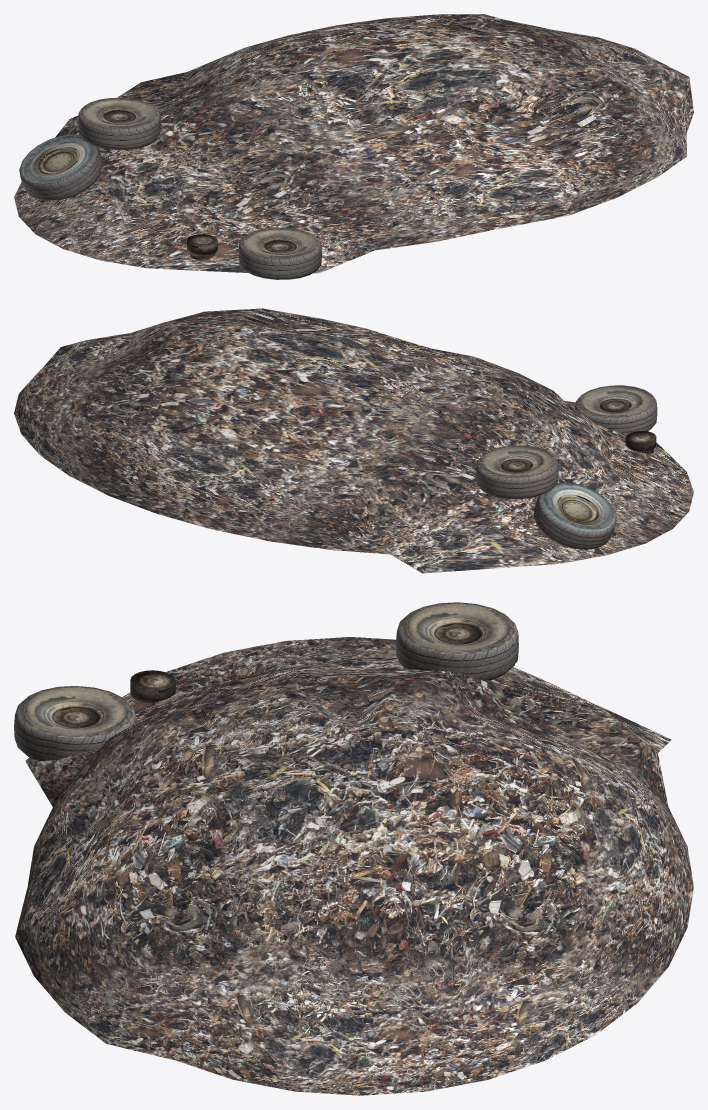
File: rubble.fbx
3 views of the same model, one above another, from view 1: azimuth 30°, elevation 25°; view 2: azimuth 150°, elevation 25°; view 3: azimuth 270°, elevation 25° (orthographic). The views are drawn at different scales.
Parts seen in each view (by area): view 1: U3DMesh; view 2: U3DMesh; view 3: U3DMesh.
Boxes of the visible parts, x1,y1,x2,y2 form: U3DMesh: (14,14,693,279); U3DMesh: (14,308,693,573); U3DMesh: (14,602,693,1095).
Size of the model in its own units: 210 by 24.4 by 131.
